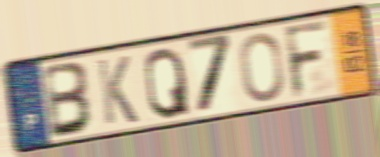7: (185, 32, 234, 118)
B: (42, 60, 96, 142)
F: (281, 17, 331, 102)
K: (94, 54, 140, 128)
O: (238, 30, 287, 105)
Q: (143, 44, 193, 121)
